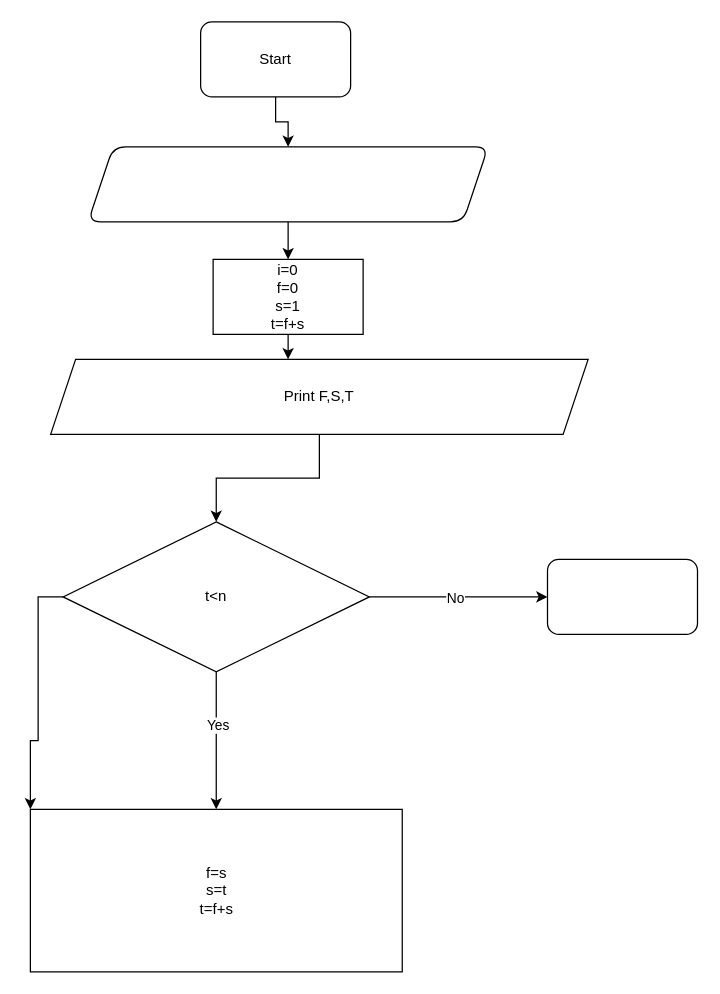
Image size: 720x994. Some labels were removed from this diagram. Here are the shapes that lost their labels. From the top down, the centre of each, then its label:
point (287, 184): Enter the value for N
point (622, 596): End
